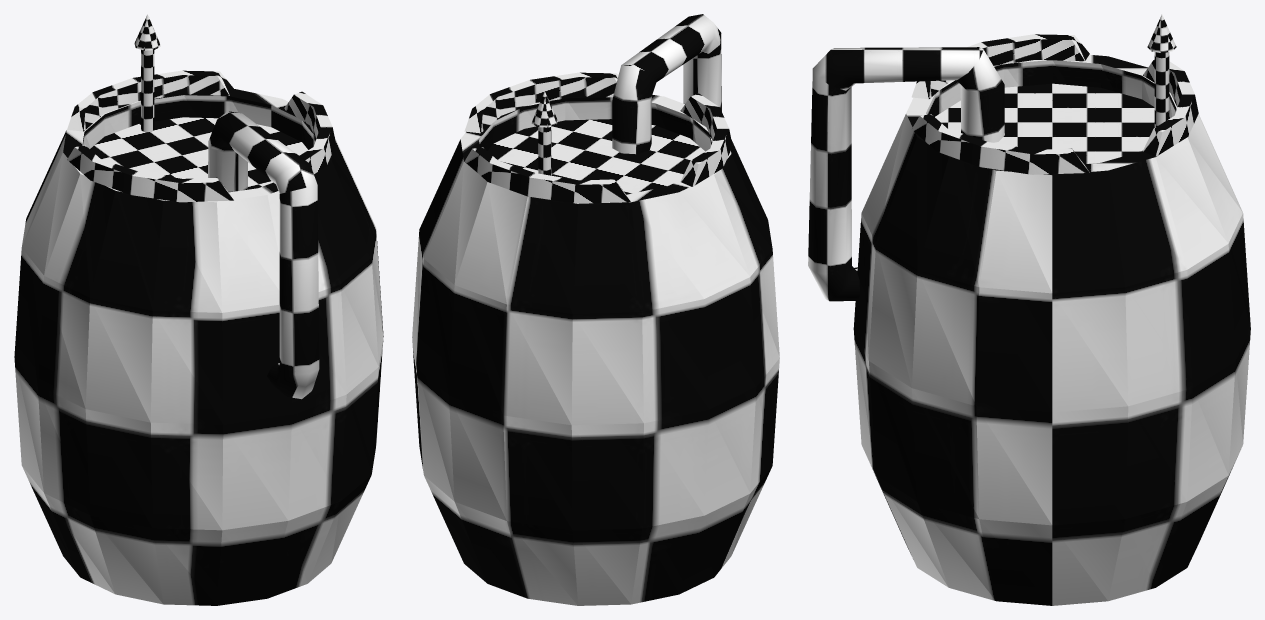
File: barrel_03-2.FBX
3 views of the same model, side by side, from view 1: azimuth 30°, elevation 25°; view 2: azimuth 150°, elevation 25°; view 3: azimuth 270°, elevation 25° (orthographic). The views are drawn at different scales.
Parts seen in each view (by area): view 1: Line003, Cylinder004, Plane001, Box005, Box004, Box006, Cylinder003, Cone001; view 2: Line003, Plane001, Cylinder004, Box004, Box006, Box005, Cylinder003, Cone001; view 3: Line003, Cylinder004, Plane001, Box006, Box005, Box004, Cylinder003, Cone001.
Boxes of the visible parts, <box> form: Line003: <box>14,89,383,605</box>; Cylinder004: <box>208,111,319,399</box>; Plane001: <box>90,117,307,189</box>; Box005: <box>67,145,233,202</box>; Box004: <box>67,70,233,131</box>; Box006: <box>284,91,336,173</box>; Cylinder003: <box>141,49,154,132</box>; Cone001: <box>134,14,160,50</box>; Line003: <box>412,95,779,605</box>; Plane001: <box>487,119,704,194</box>; Cylinder004: <box>612,14,721,154</box>; Box004: <box>464,147,630,203</box>; Box006: <box>464,72,618,133</box>; Box005: <box>680,93,732,186</box>; Cylinder003: <box>538,127,551,175</box>; Cone001: <box>531,91,557,127</box>; Line003: <box>853,54,1250,605</box>; Cylinder004: <box>808,47,1004,301</box>; Plane001: <box>935,83,1169,164</box>; Box006: <box>911,114,1089,174</box>; Box005: <box>911,34,1089,99</box>; Box004: <box>1142,59,1198,156</box>; Cylinder003: <box>1154,52,1169,127</box>; Cone001: <box>1147,14,1176,53</box>.
Bounding box in the file's own units: 54.32 × 80 × 60.56.
1 material, 1 textured.
